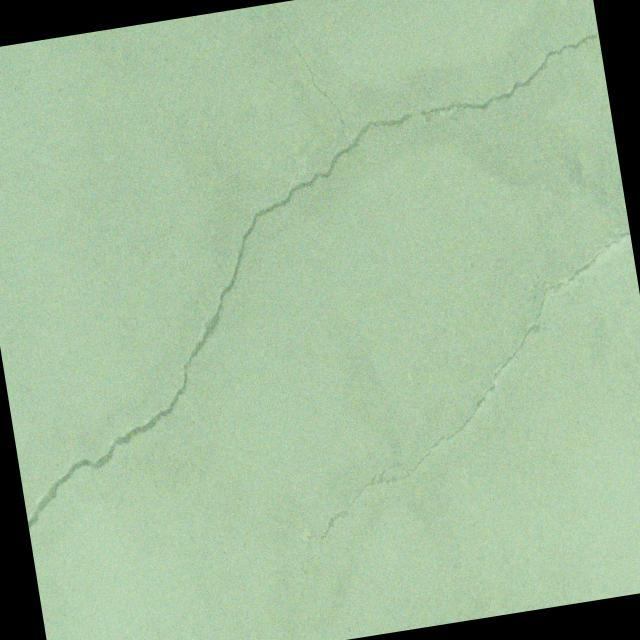crack: (0, 0, 640, 531), (229, 232, 640, 549)
